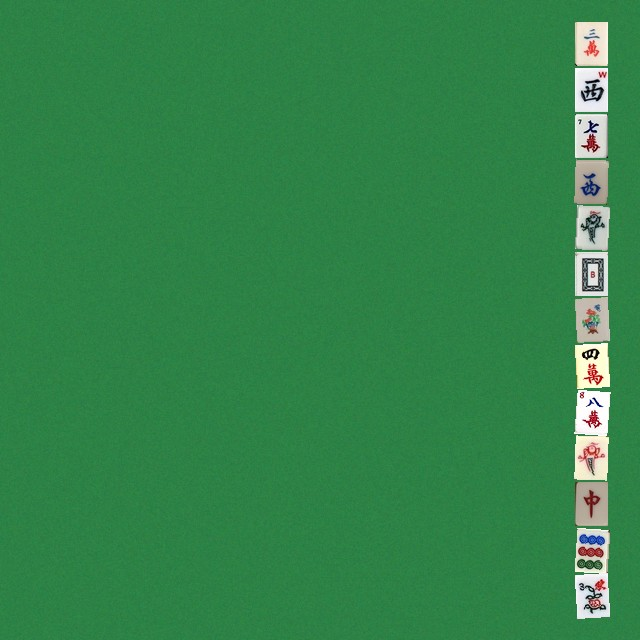tile: (574, 21, 607, 65), (574, 67, 607, 111), (574, 113, 607, 157), (574, 159, 607, 203), (574, 205, 607, 249), (574, 251, 607, 295), (574, 297, 607, 341), (574, 343, 607, 387), (574, 389, 607, 433), (574, 435, 607, 479), (574, 481, 607, 525), (574, 527, 607, 571), (574, 573, 607, 617)
